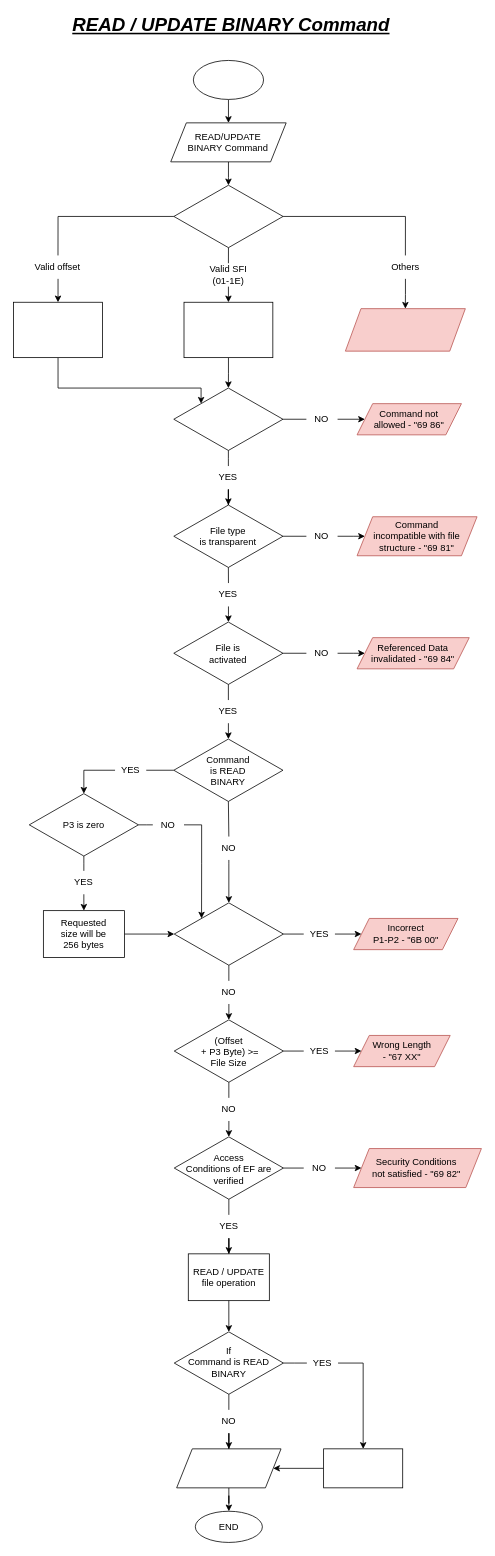
This 495x1556 diagram has some shape labels left out. Each missing label, with the centre of its shape:
"90 00" - Normal Ending: point (228, 1468)
Check P1 byte: point (228, 216)
EF is selected: point (228, 418)
Incorrect parameters in the data field - "6A 80": point (405, 329)
Offset >= File Size: point (228, 933)
P1 & P2 work as offset; use current file for operation: point (57, 329)
P2 work as offset; select EF by SFI for operation: point (228, 329)
Response from File Data: point (363, 1468)
START: point (228, 79)
